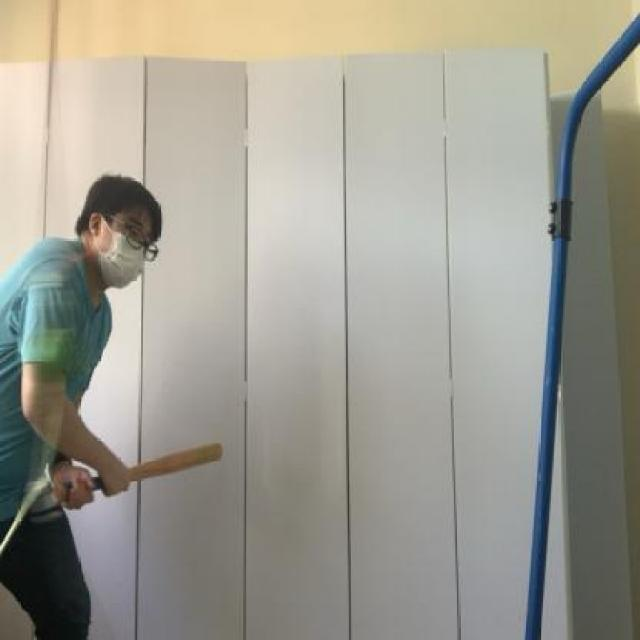baseball: (10, 313, 82, 393)
